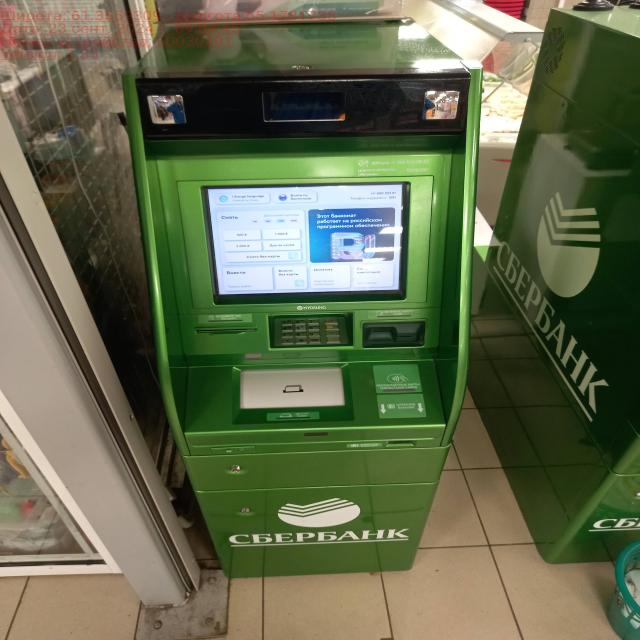bank: (124, 13, 482, 580), (489, 4, 640, 562)
